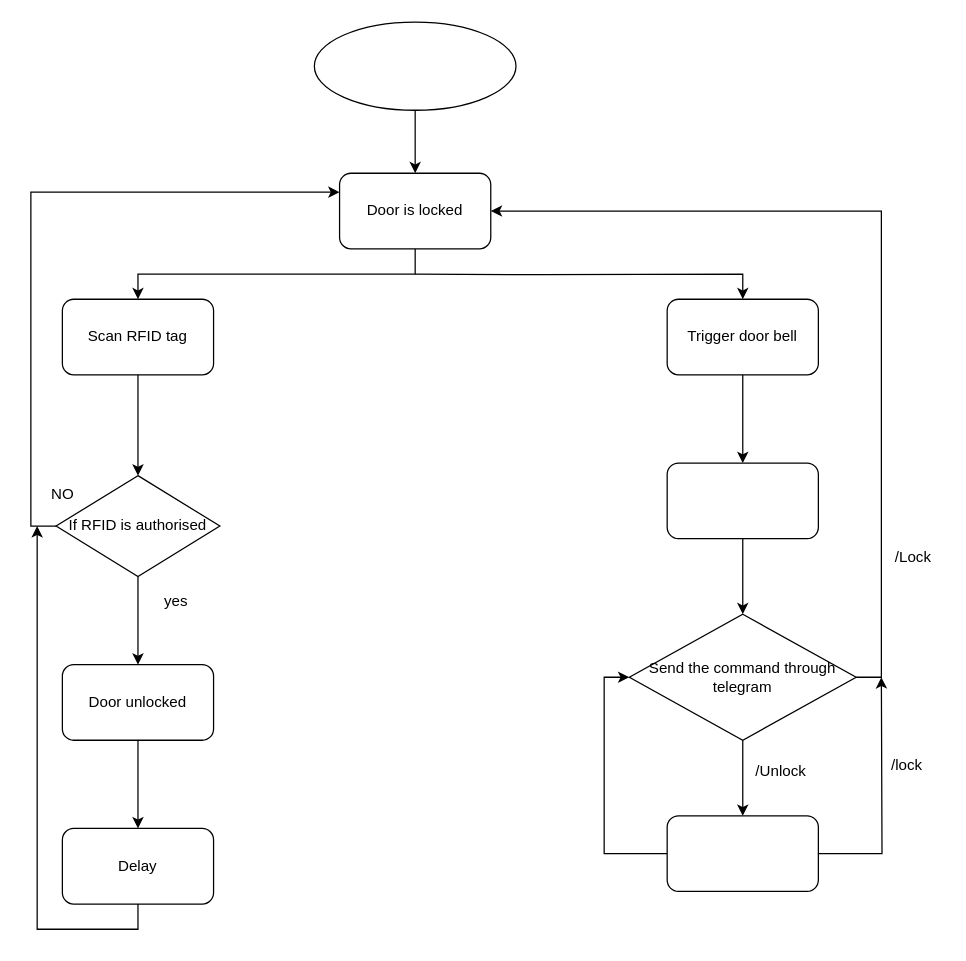
This 966x961 diagram has some shape labels left out. The shapes that lost their labels are listed below. From the top down, each one's centre as x and y in pixels, then its label:
At point (414, 65): "START".
At point (742, 500): "Get photo & send it to telegram".
At point (742, 853): "Unlocked".
